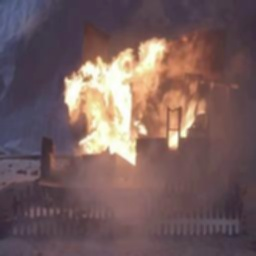fire: (58, 36, 214, 158)
